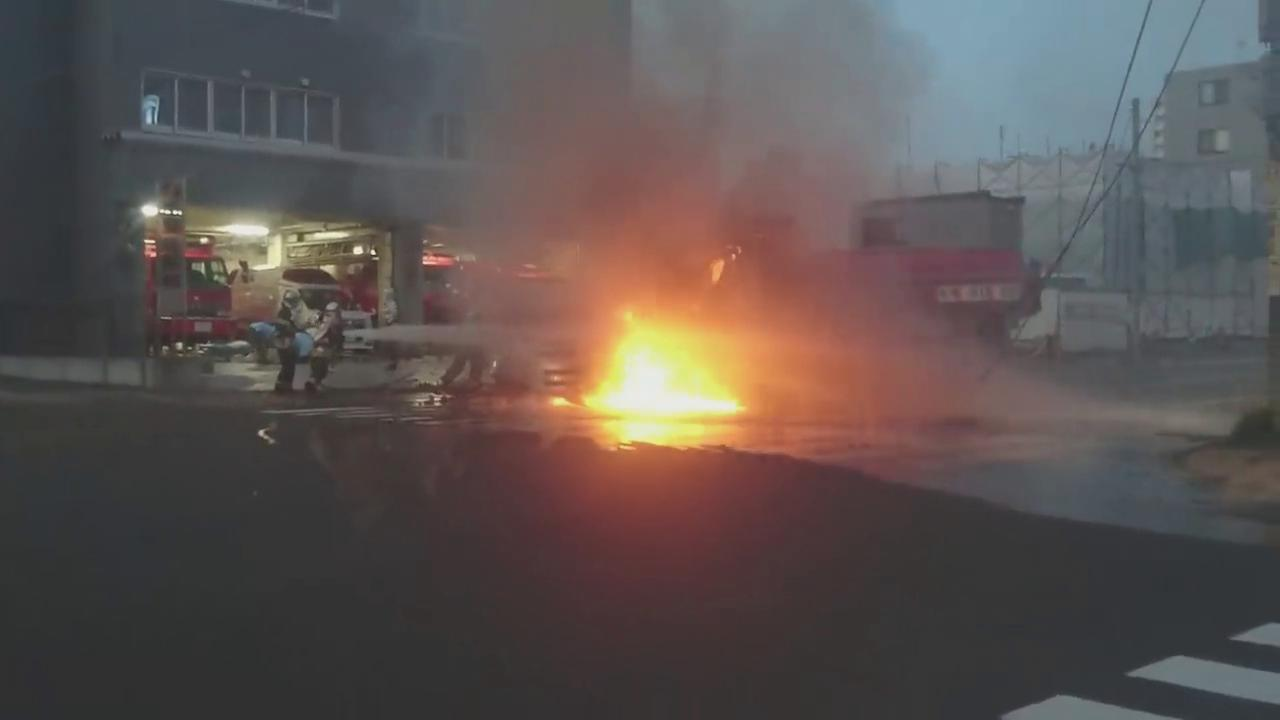Fire: (594, 333, 753, 417), (547, 394, 579, 409)
